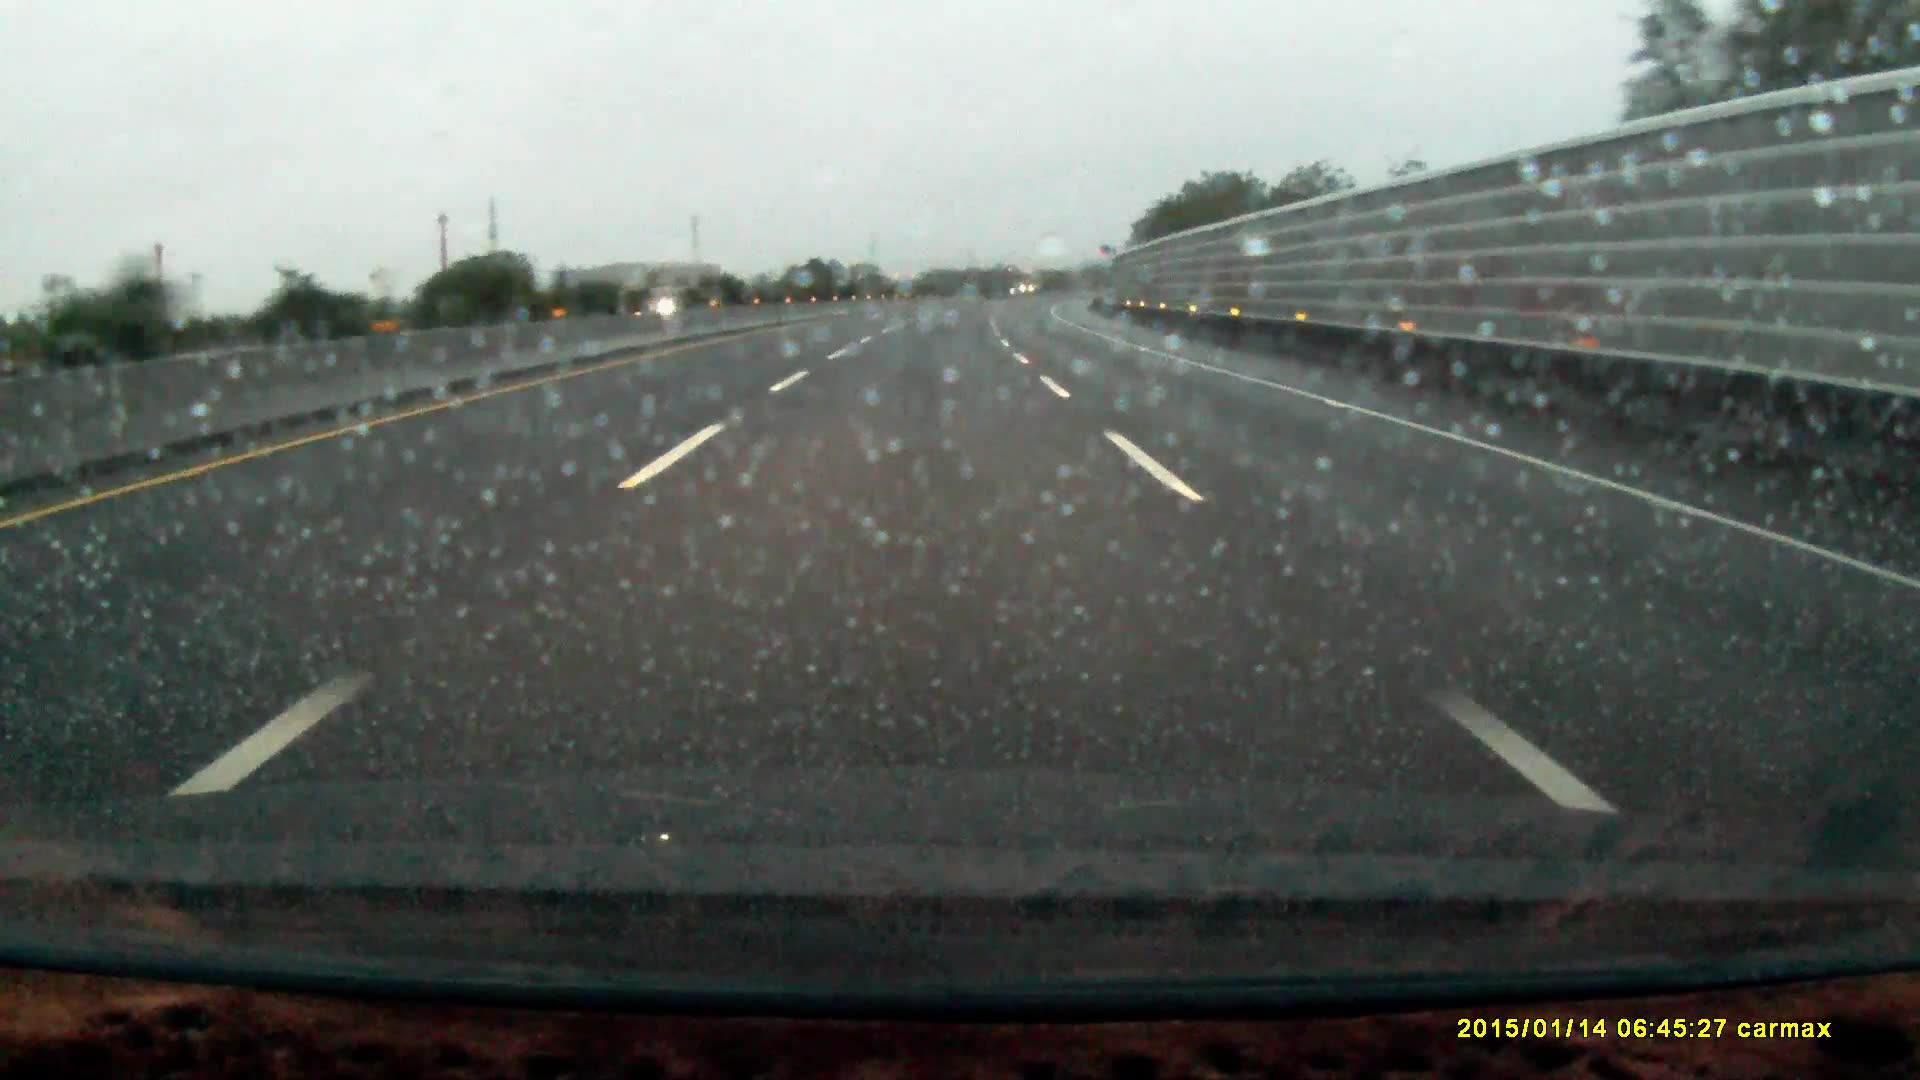vehicle: (632, 287, 700, 313)
